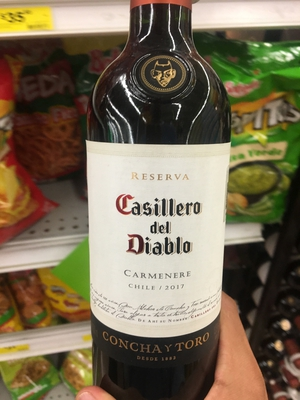casillero del diablo carmenere: (88, 3, 234, 400)
